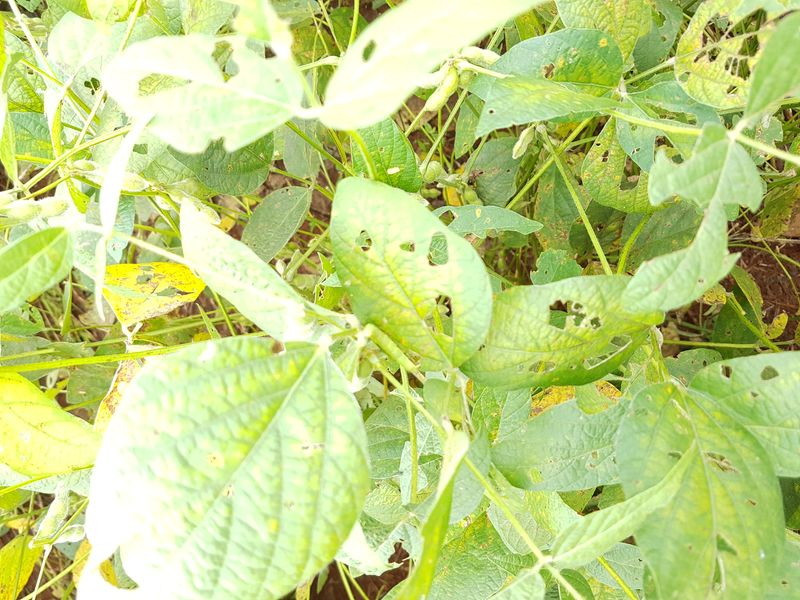Anticarsia_gemmatalis: (357, 317, 423, 378)
